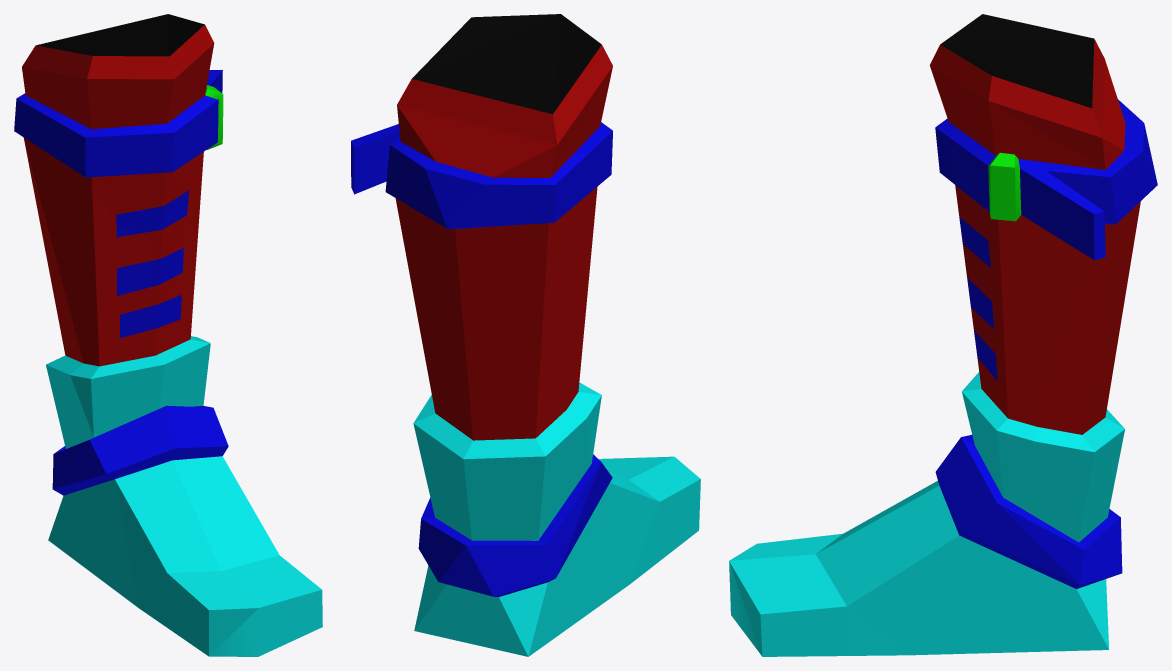
Rendered from Chr_LegRight_Male_Static_11.fbx.
3 views of the same model, side by side, from view 1: azimuth 30°, elevation 25°; view 2: azimuth 150°, elevation 25°; view 3: azimuth 270°, elevation 25° (orthographic). The views are drawn at different scales.
Parts seen in each view (by area): view 1: Chr_LegRight_Male_11; view 2: Chr_LegRight_Male_11; view 3: Chr_LegRight_Male_11.
Part boxes in pixels (bbox=[...]): Chr_LegRight_Male_11: bbox=[14, 14, 322, 656]; Chr_LegRight_Male_11: bbox=[351, 14, 700, 656]; Chr_LegRight_Male_11: bbox=[729, 14, 1157, 656].
Size of the model in its own units: 15.87 by 40.4 by 27.32.
